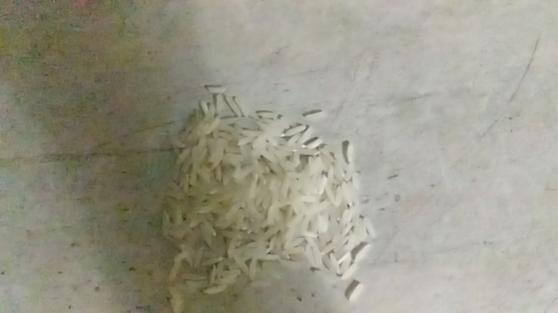rice: (140, 72, 399, 308)
